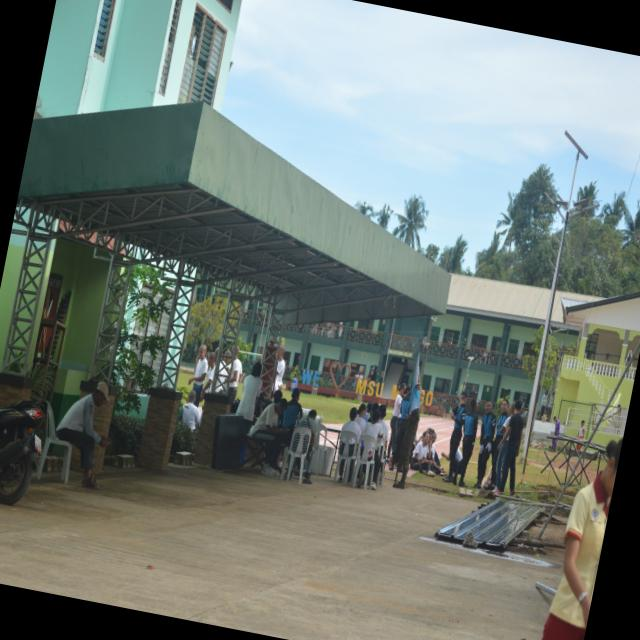person: (541, 440, 622, 639), (56, 382, 109, 489), (248, 399, 286, 476), (495, 400, 523, 496), (443, 391, 466, 484), (473, 401, 496, 488), (487, 400, 508, 489), (236, 362, 261, 434), (457, 399, 477, 487), (362, 407, 383, 489), (385, 383, 405, 462), (297, 410, 317, 484), (340, 407, 361, 455), (187, 345, 206, 395), (181, 390, 200, 430), (228, 347, 241, 404), (272, 346, 285, 392), (552, 416, 559, 436)
